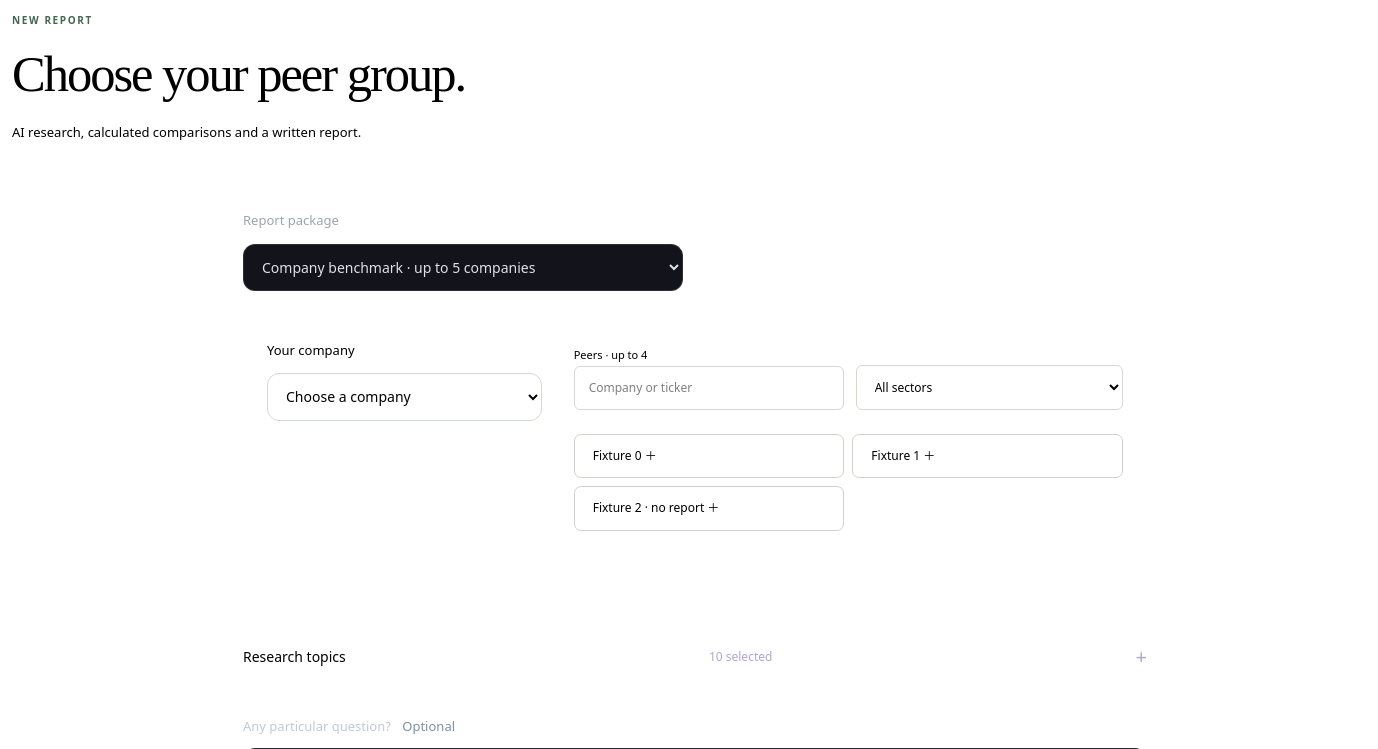
it: shows missing report availability before spending and preserves topic choice
Select "Fixture 2 · report unavailable" in the dropdown named "Primary company" at (404,397), box left=267, top=373, right=542, bottom=421
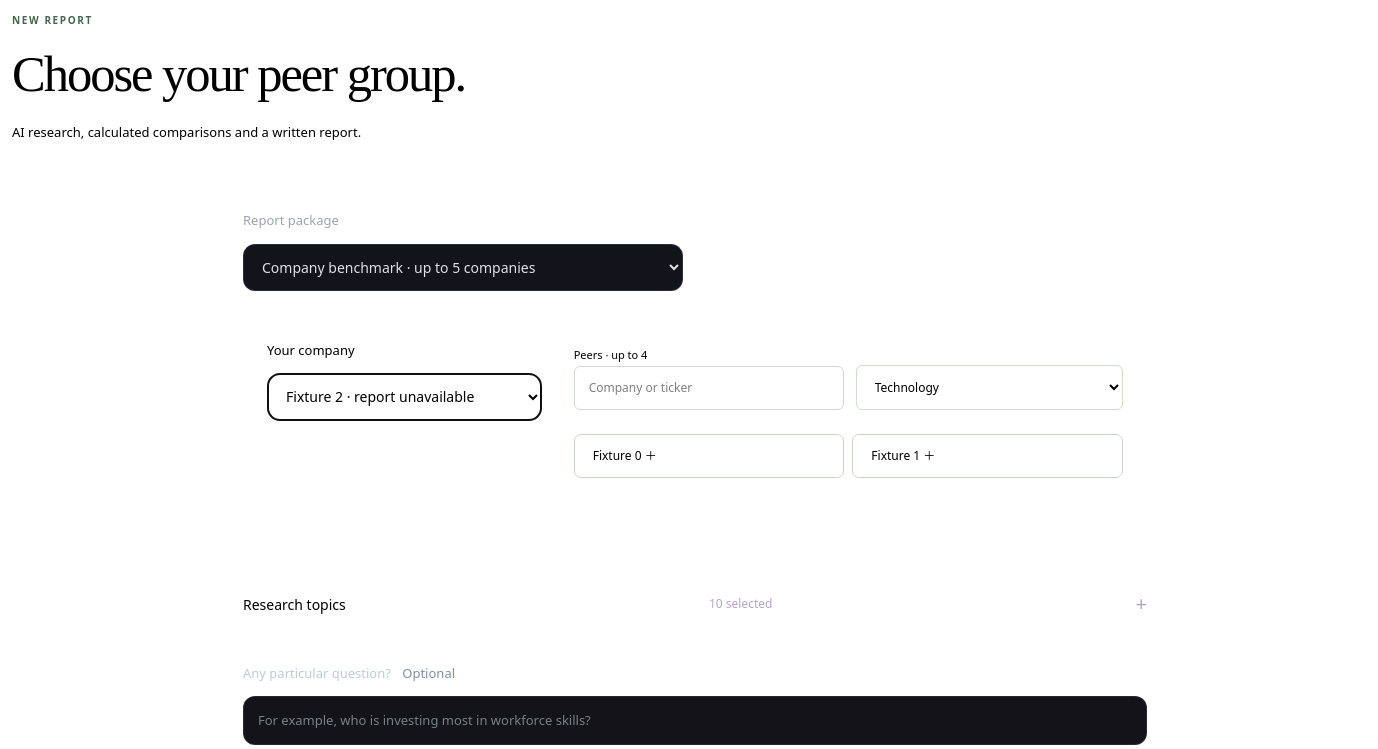
Click the button "Fixture 0 ＋" at (617,456), box left=574, top=434, right=844, bottom=478
(page scrolled)
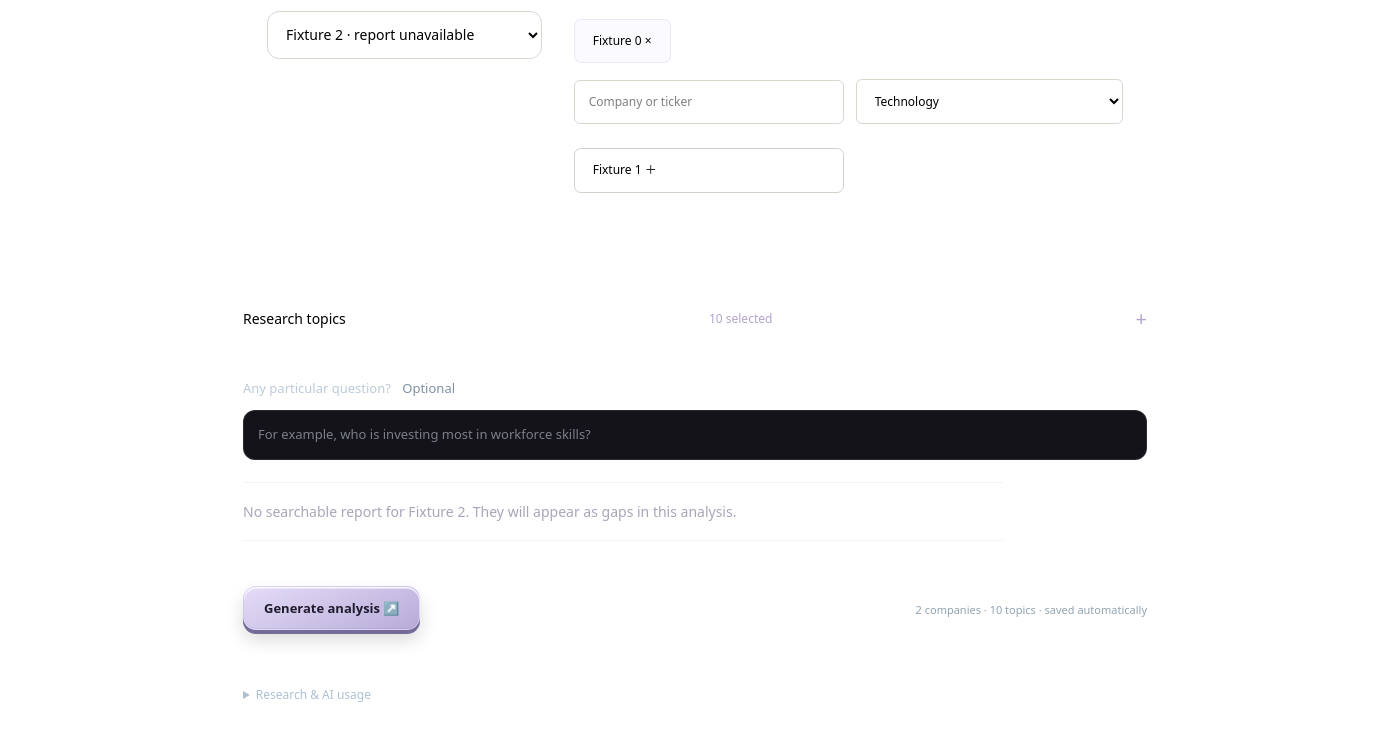
Expected: the button "Generate analysis ↗" is enabled, left=243, top=586, right=420, bottom=634
